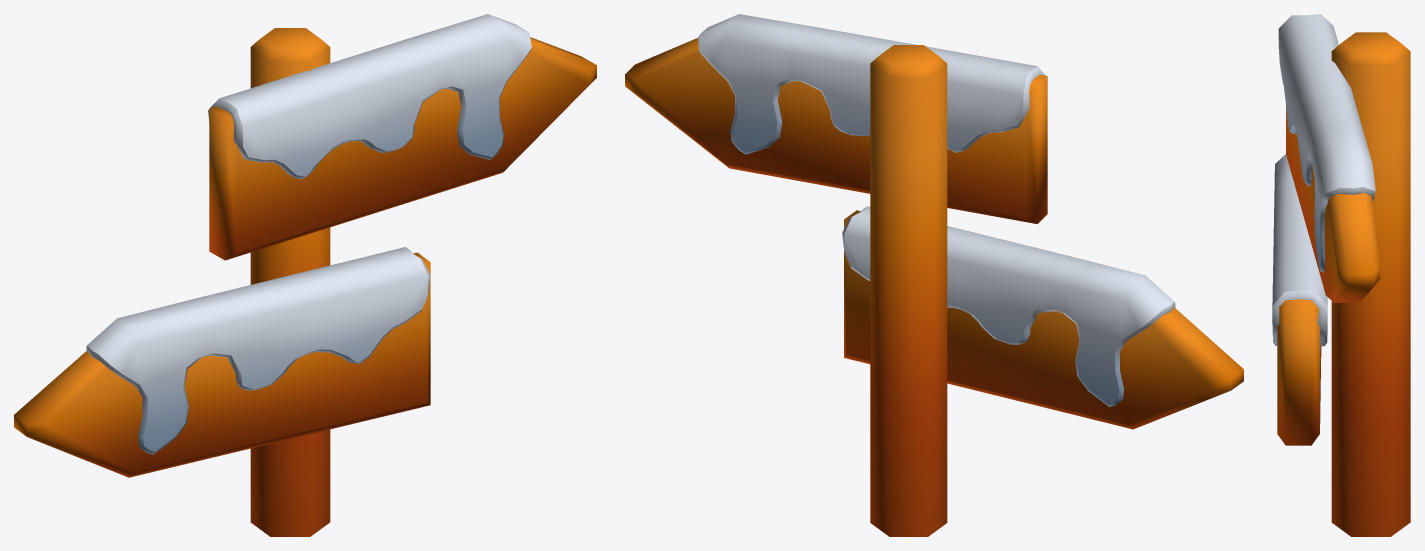
File: Pointer.fbx
3 renders of one model, left to right at view 1: azimuth 30°, elevation 25°; view 2: azimuth 150°, elevation 25°; view 3: azimuth 270°, elevation 25°, orthographic. The views are drawn at different scales.
Visible parts, largest first — view 1: Pointer; view 2: Pointer; view 3: Pointer.
Part boxes in pixels (<box>): Pointer: <box>14,14,596,536</box>; Pointer: <box>625,14,1243,536</box>; Pointer: <box>1272,14,1410,536</box>.
Bounding box in the file's own units: 110 × 84.92 × 22.18.
